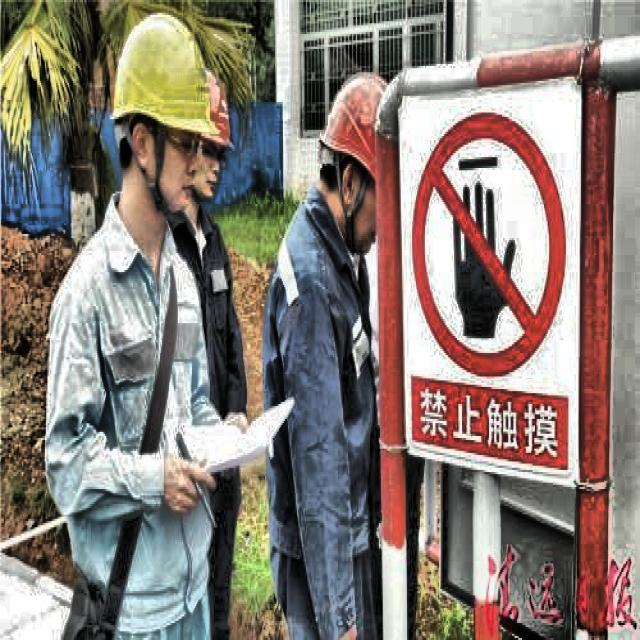helmet: (104, 7, 216, 224), (308, 62, 396, 255), (194, 68, 237, 208)
